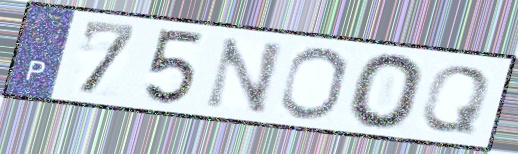5: (138, 26, 210, 108)
7: (77, 17, 141, 98)
N: (200, 35, 287, 117)
O: (346, 51, 427, 132), (276, 45, 350, 122)
Q: (416, 63, 495, 136)
